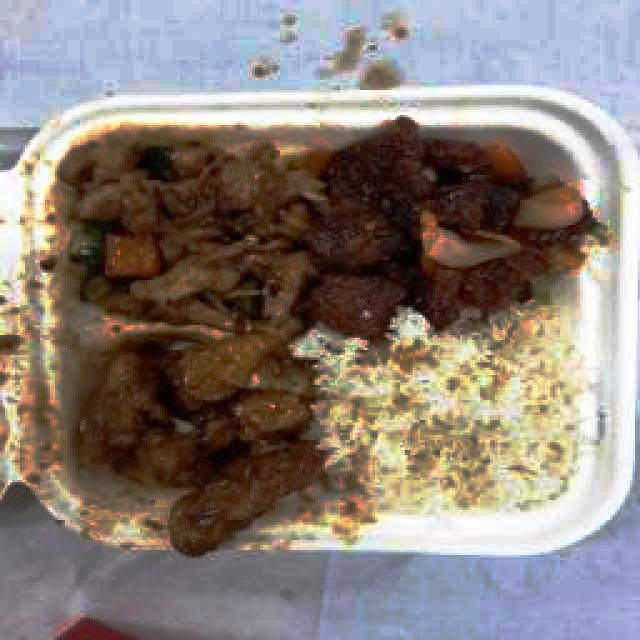Beijing Beef: (85, 145, 568, 313)
rice: (350, 348, 571, 510)
